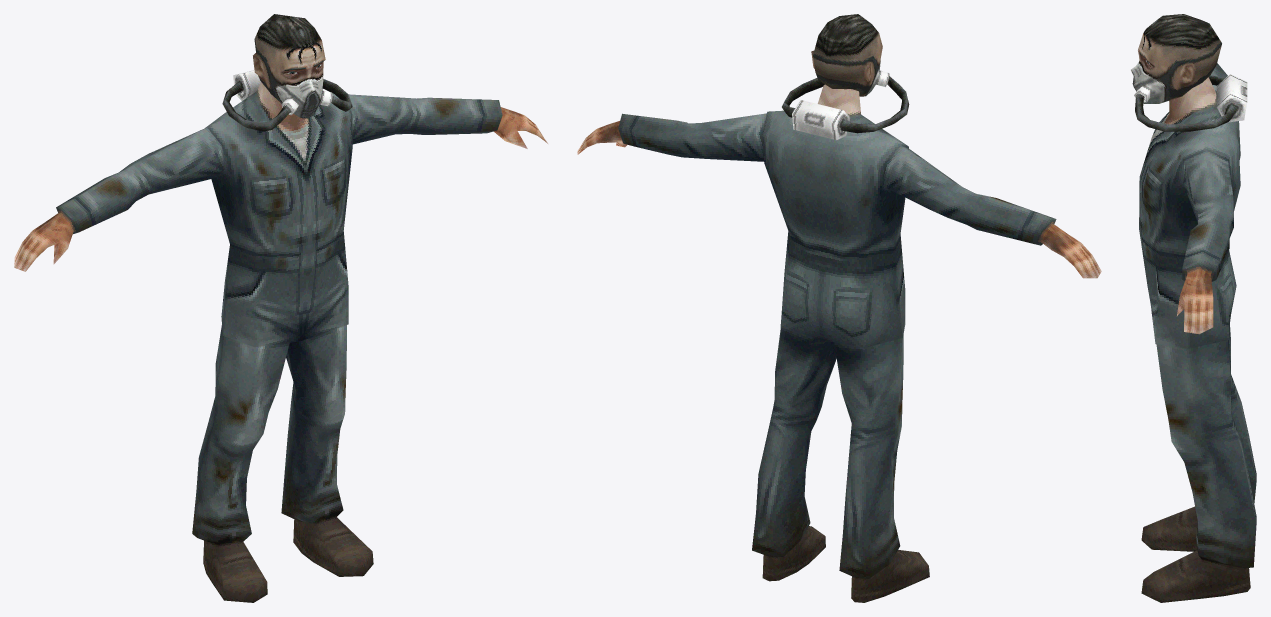
The model's file is janitor-npc.glb.
3 renders of one model, left to right at view 1: azimuth 30°, elevation 25°; view 2: azimuth 150°, elevation 25°; view 3: azimuth 270°, elevation 25°, orthographic.
Visible parts, largest first — view 1: Object_2; view 2: Object_2; view 3: Object_2.
Part boxes in pixels (x1=…): Object_2: x1=14, y1=14, x2=547, y2=602; Object_2: x1=577, y1=14, x2=1101, y2=602; Object_2: x1=1131, y1=14, x2=1256, y2=602.
Bounding box in the file's own units: 29.78 × 29.93 × 6.21.
Materials: 1 (1 with a texture image).
